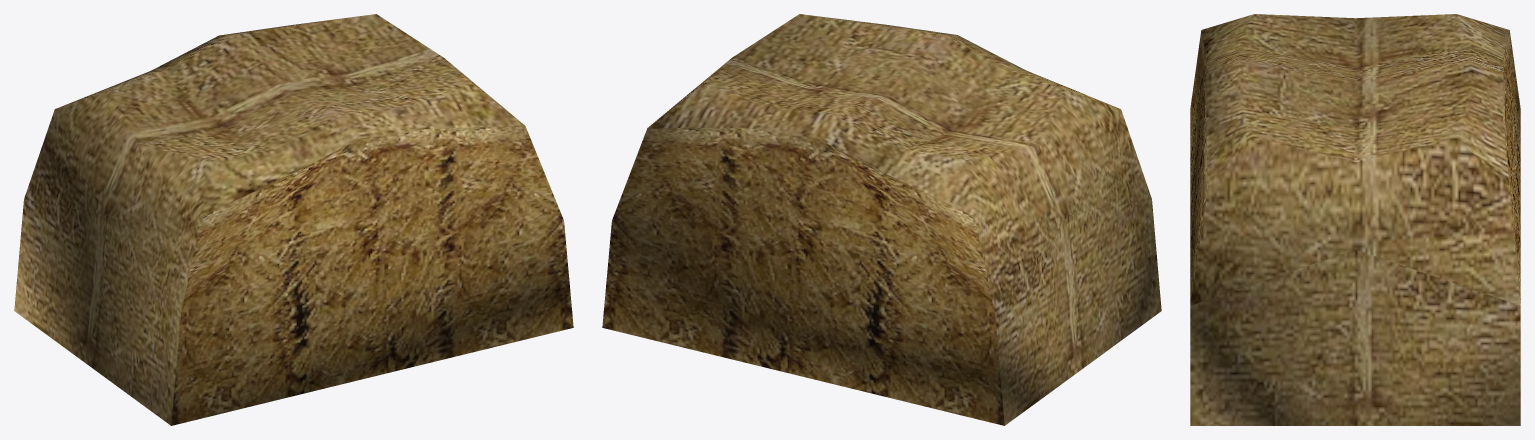
File: cj_ricestraw.glb
3 renders of one model, left to right at view 1: azimuth 30°, elevation 25°; view 2: azimuth 150°, elevation 25°; view 3: azimuth 270°, elevation 25°, orthographic. The views are drawn at different scales.
Parts seen in each view (by area): view 1: Cj_ricestraw; view 2: Cj_ricestraw; view 3: Cj_ricestraw.
Boxes of the visible parts, bbox=[...] form: Cj_ricestraw: bbox=[14, 14, 573, 425]; Cj_ricestraw: bbox=[602, 14, 1161, 425]; Cj_ricestraw: bbox=[1190, 14, 1520, 425].
Size of the model in its own units: 2.55 by 1.49 by 1.72.
Materials: 1 (1 with a texture image).
